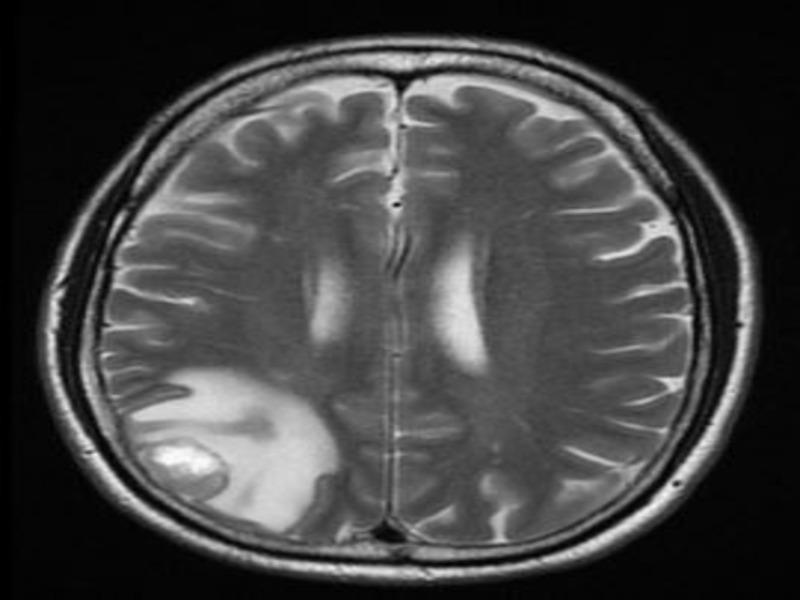tumor: (408, 227, 529, 393)
